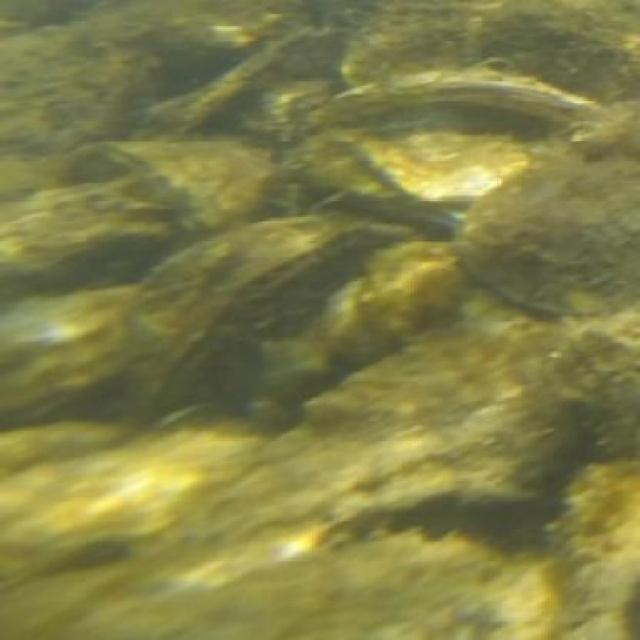Oyster-Closed: (108, 214, 374, 415), (66, 133, 281, 232)
Oyster-Indeterminate: (34, 537, 558, 640), (449, 98, 640, 321), (343, 0, 637, 96), (332, 70, 599, 130)
